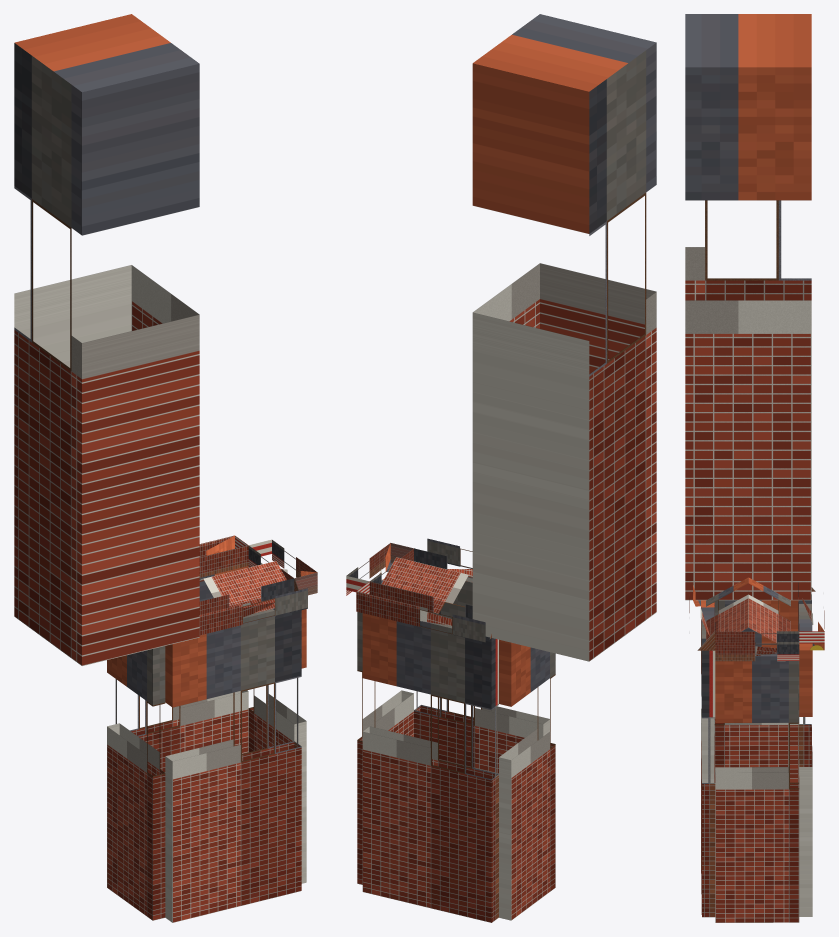
3 views of the same model, side by side, from view 1: azimuth 30°, elevation 25°; view 2: azimuth 150°, elevation 25°; view 3: azimuth 270°, elevation 25° (orthographic). The views are drawn at different scales.
Parts seen in each view (by area): view 1: 1106965485__chimney_0_xb, 1106965485__wall_0_xb, 1106965485__wall_1_xb, 1106965485__wall_2_xb, 1106965485__wall_3_xb, 1106965485__cornice_0, 1106965485_roof_-1_xb, 1106965485__cornice_2, 1106965485__cornice_3; view 2: 1106965485__chimney_0_xb, 1106965485__wall_2_xb, 1106965485__wall_1_xb, 1106965485__wall_0_xb, 1106965485__cornice_2, 1106965485__wall_3_xb, 1106965485_roof_1_xb, 1106965485__cornice_3, 1106965485__cornice_0; view 3: 1106965485__chimney_0_xb, 1106965485__wall_3_xb, 1106965485__wall_1_xb, 1106965485__wall_0_xb, 1106965485__wall_2_xb, 1106965485__cornice_3, 1106965485_roof_1_xb, 1106965485_roof_-1_xb, 1106965485__cornice_2, 1106965485__cornice_0.
Boxes of the visible parts, x1,y1,x2,y2 form: 1106965485__chimney_0_xb: (14,14,199,665); 1106965485__wall_0_xb: (165,608,301,922); 1106965485__wall_1_xb: (107,646,165,920); 1106965485__wall_2_xb: (115,566,248,772); 1106965485__wall_3_xb: (248,563,306,883); 1106965485__cornice_0: (199,578,307,635); 1106965485_roof_-1_xb: (203,561,286,613); 1106965485__cornice_2: (199,535,248,577); 1106965485__cornice_3: (248,539,317,595); 1106965485__chimney_0_xb: (472,14,656,661); 1106965485__wall_2_xb: (362,613,498,922); 1106965485__wall_1_xb: (499,639,555,920); 1106965485__wall_0_xb: (414,577,549,773); 1106965485__cornice_2: (356,581,491,642); 1106965485__wall_3_xb: (357,578,413,884); 1106965485_roof_1_xb: (381,557,468,613); 1106965485__cornice_3: (346,543,413,595); 1106965485__cornice_0: (414,538,472,581); 1106965485__chimney_0_xb: (685,14,811,600); 1106965485__wall_3_xb: (715,653,799,922); 1106965485__wall_1_xb: (714,600,798,782); 1106965485__wall_0_xb: (701,600,715,917); 1106965485__wall_2_xb: (798,594,812,916); 1106965485__cornice_3: (715,631,799,661); 1106965485_roof_1_xb: (748,578,790,642); 1106965485_roof_-1_xb: (706,577,748,640); 1106965485__cornice_2: (798,582,824,650); 1106965485__cornice_0: (689,585,715,650).
Bounding box in the file's own units: 0.3214 × 1.05 × 0.1654.
1 material, 1 textured.
